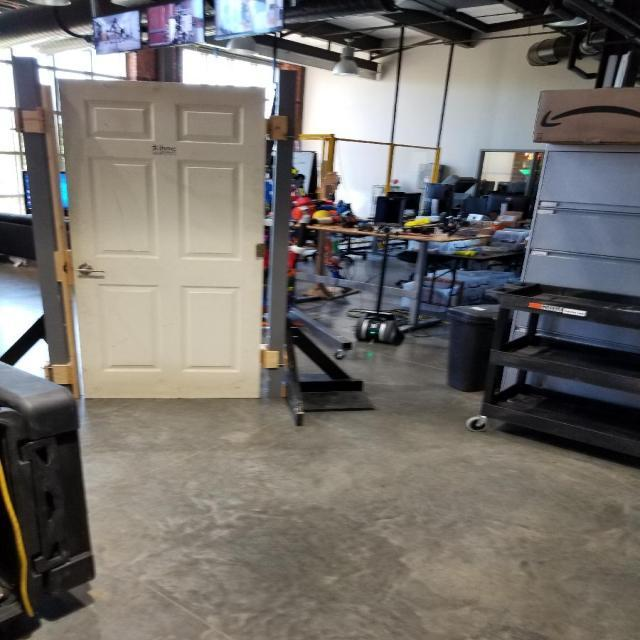door: (56, 76, 268, 403), (72, 262, 106, 279)
